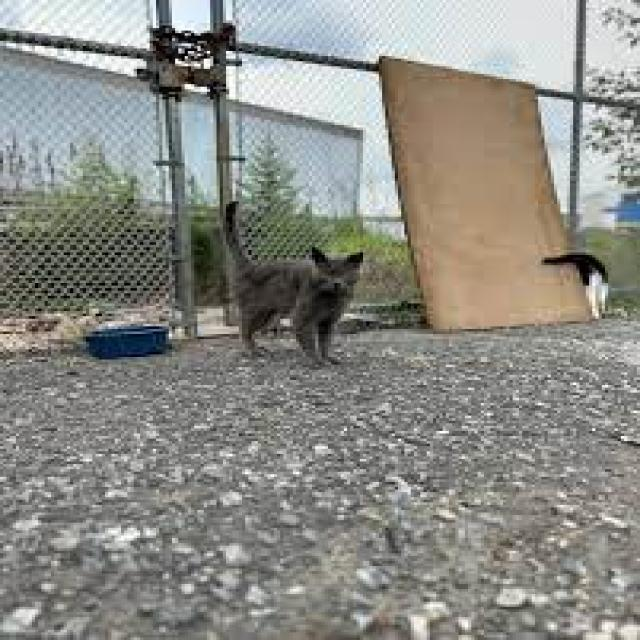cat: (223, 203, 364, 364), (546, 253, 609, 318)
